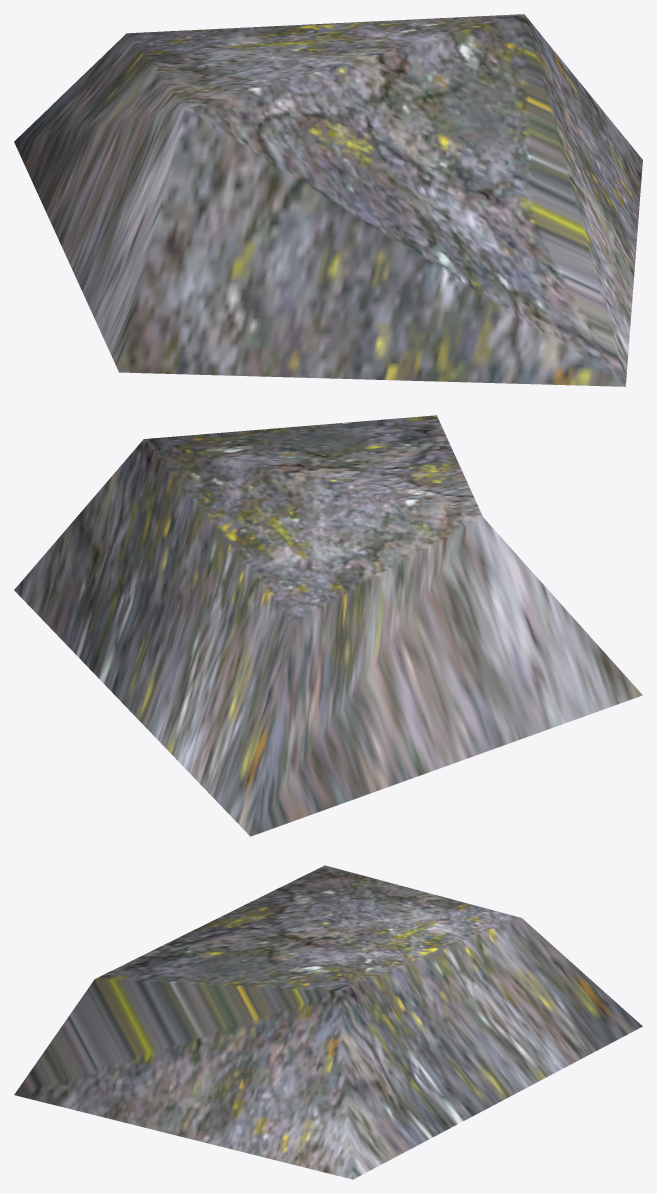
Rendered from rock_weatheredmossy_medium_l3.fbx.
3 renders of one model, top to bottom at view 1: azimuth 30°, elevation 25°; view 2: azimuth 150°, elevation 25°; view 3: azimuth 270°, elevation 25°, orthographic. The views are drawn at different scales.
Visible parts, largest first — view 1: mesh_node; view 2: mesh_node; view 3: mesh_node.
Boxes of the visible parts, x1,y1,x2,y2 form: mesh_node: [14, 14, 642, 386]; mesh_node: [14, 415, 642, 836]; mesh_node: [14, 865, 642, 1179].
Bounding box in the file's own units: 0.5173 × 0.1671 × 0.6221.
Materials: 1 (1 with a texture image).
